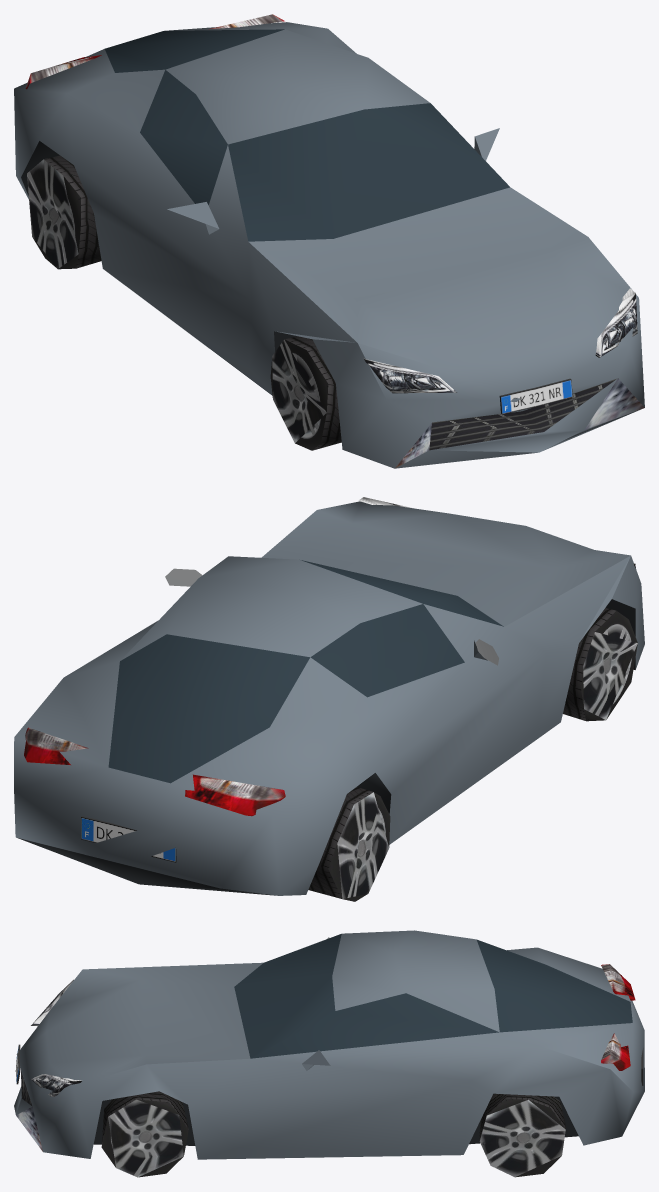
File: sport_far.glb
3 views of the same model, one above another, from view 1: azimuth 30°, elevation 25°; view 2: azimuth 150°, elevation 25°; view 3: azimuth 270°, elevation 25° (orthographic). The views are drawn at different scales.
Visible parts, largest first — view 1: paint-Body-body, glass-Glass-body, rubber-Tires-(False, True), rubber-Tires-(False, False), trim-AirEntrance-body, headlamp-FrontLights-body, headlamp-FrontFogLights-body, trim-LicensePlate-body, taillamp-RearLights-body, rubber-WheelArch-body; view 2: paint-Body-body, glass-Glass-body, rubber-Tires-(False, True), rubber-Tires-(False, False), taillamp-RearLights-body, rubber-BlackPlastic-body, trim-LicensePlate-body, rubber-WheelArch-body, mirror-Mirror-body; view 3: paint-Body-body, glass-Glass-body, rubber-Tires-(True, False), rubber-Tires-(True, True), taillamp-RearLights-body, rubber-WheelArch-body, headlamp-FrontLights-body, headlamp-FrontFogLights-body.
Part boxes in pixels (<box>): paint-Body-body: <box>14,22,644,468</box>; glass-Glass-body: <box>105,29,509,241</box>; rubber-Tires-(False, True): <box>27,155,101,269</box>; rubber-Tires-(False, False): <box>270,336,341,450</box>; trim-AirEntrance-body: <box>429,378,617,450</box>; headlamp-FrontLights-body: <box>363,288,637,393</box>; headlamp-FrontFogLights-body: <box>395,378,644,468</box>; trim-LicensePlate-body: <box>499,378,572,414</box>; taillamp-RearLights-body: <box>25,14,284,89</box>; rubber-WheelArch-body: <box>21,141,297,351</box>; paint-Body-body: <box>14,501,644,895</box>; glass-Glass-body: <box>108,560,503,783</box>; rubber-Tires-(False, True): <box>308,787,390,901</box>; rubber-Tires-(False, False): <box>563,608,637,721</box>; taillamp-RearLights-body: <box>24,727,285,816</box>; rubber-BlackPlastic-body: <box>18,838,275,895</box>; trim-LicensePlate-body: <box>81,816,176,862</box>; rubber-WheelArch-body: <box>357,599,635,813</box>; mirror-Mirror-body: <box>165,568,498,665</box>; paint-Body-body: <box>14,930,644,1159</box>; glass-Glass-body: <box>234,934,632,1058</box>; rubber-Tires-(True, False): <box>101,1091,188,1177</box>; rubber-Tires-(True, True): <box>479,1093,565,1177</box>; taillamp-RearLights-body: <box>601,964,635,1070</box>; rubber-WheelArch-body: <box>93,1093,578,1145</box>; headlamp-FrontLights-body: <box>31,979,82,1096</box>; headlamp-FrontFogLights-body: <box>16,1107,42,1151</box>.
Bounding box in the file's own units: 2.1 × 1.28 × 4.48.
13 materials, 6 textured.
